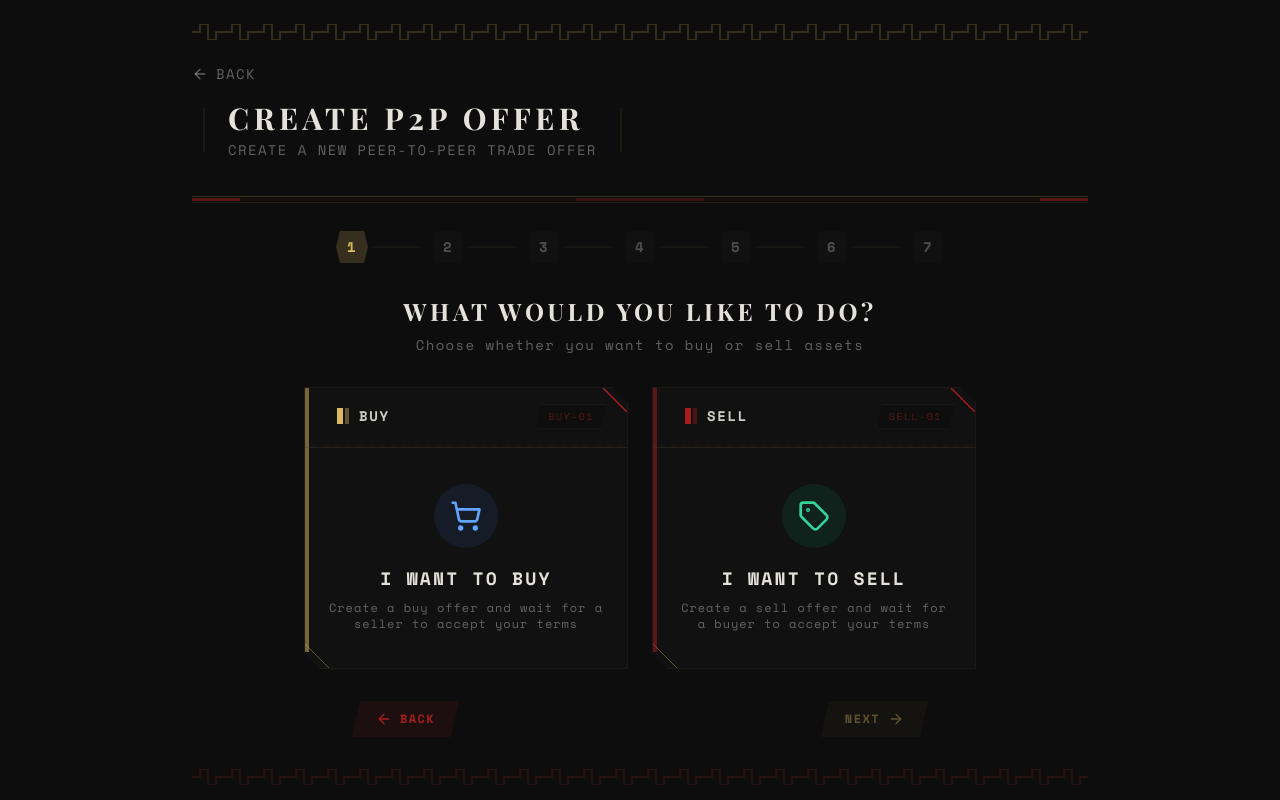
Test: Create P2P Offer Page › step 2: buy flow - asset selection with attributes › should display attribute dropdowns when asset with attributes is selected
Click the heading "I want to Buy". click: click(466, 578)
box: [380,565,552,591]
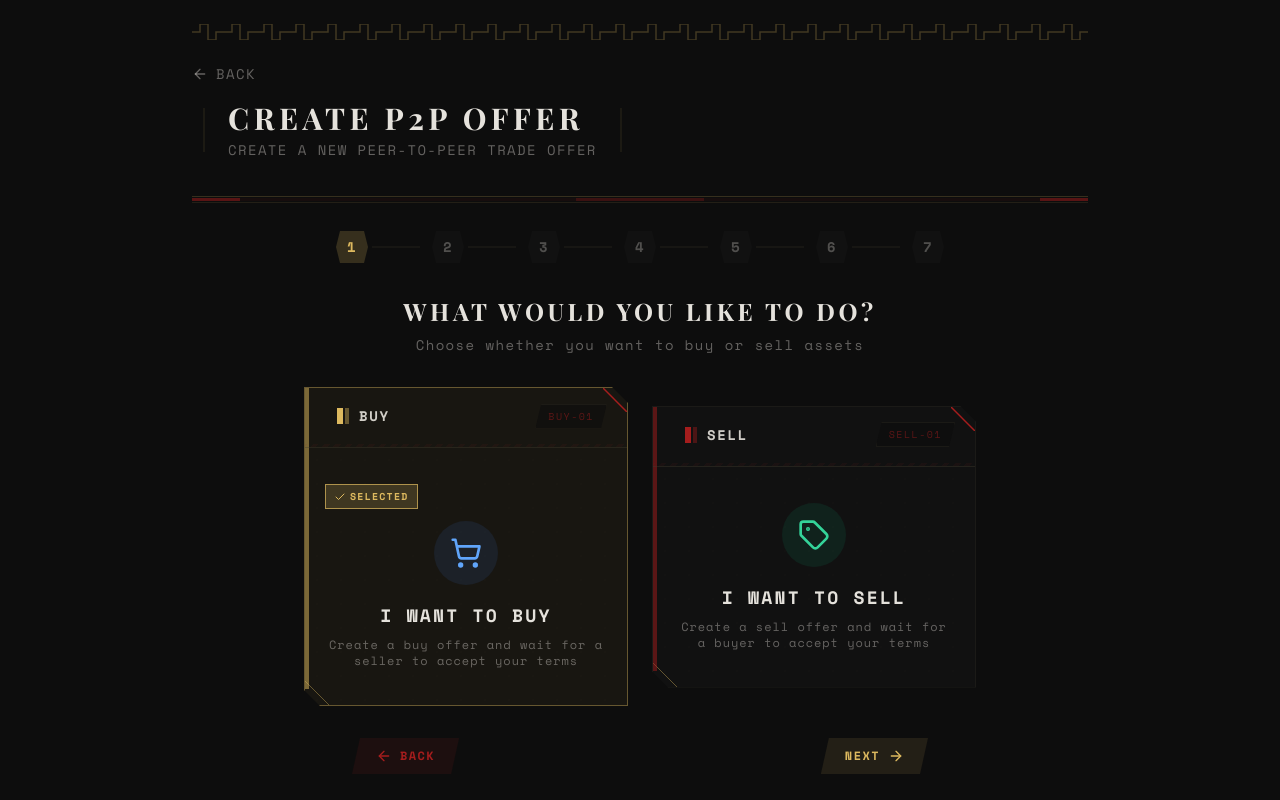
Click the button "Next". click: click(874, 756)
box: [821,738,928,774]
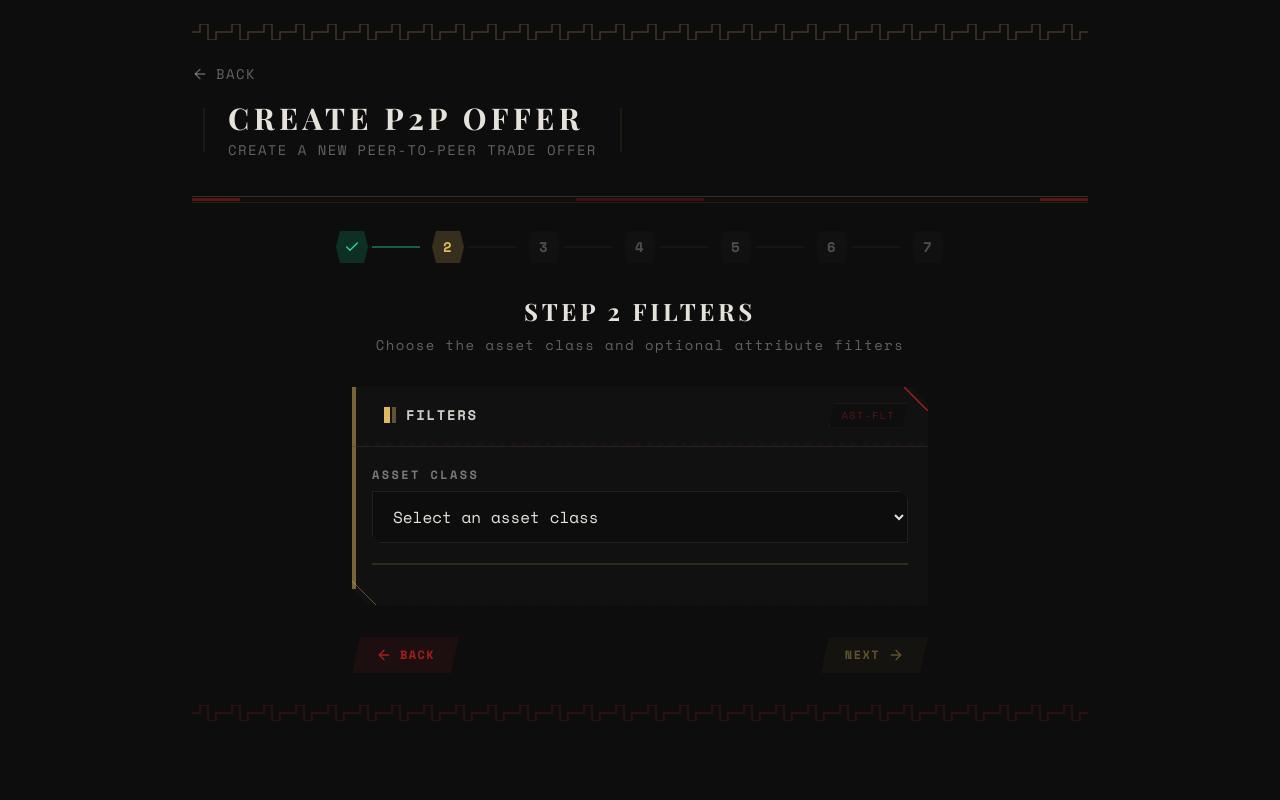
Expected: the text "Asset Class" is shown, [372,466,479,483]
Select "GOAT" in the dropdown. click: (640, 517)
box: [372,491,908,543]
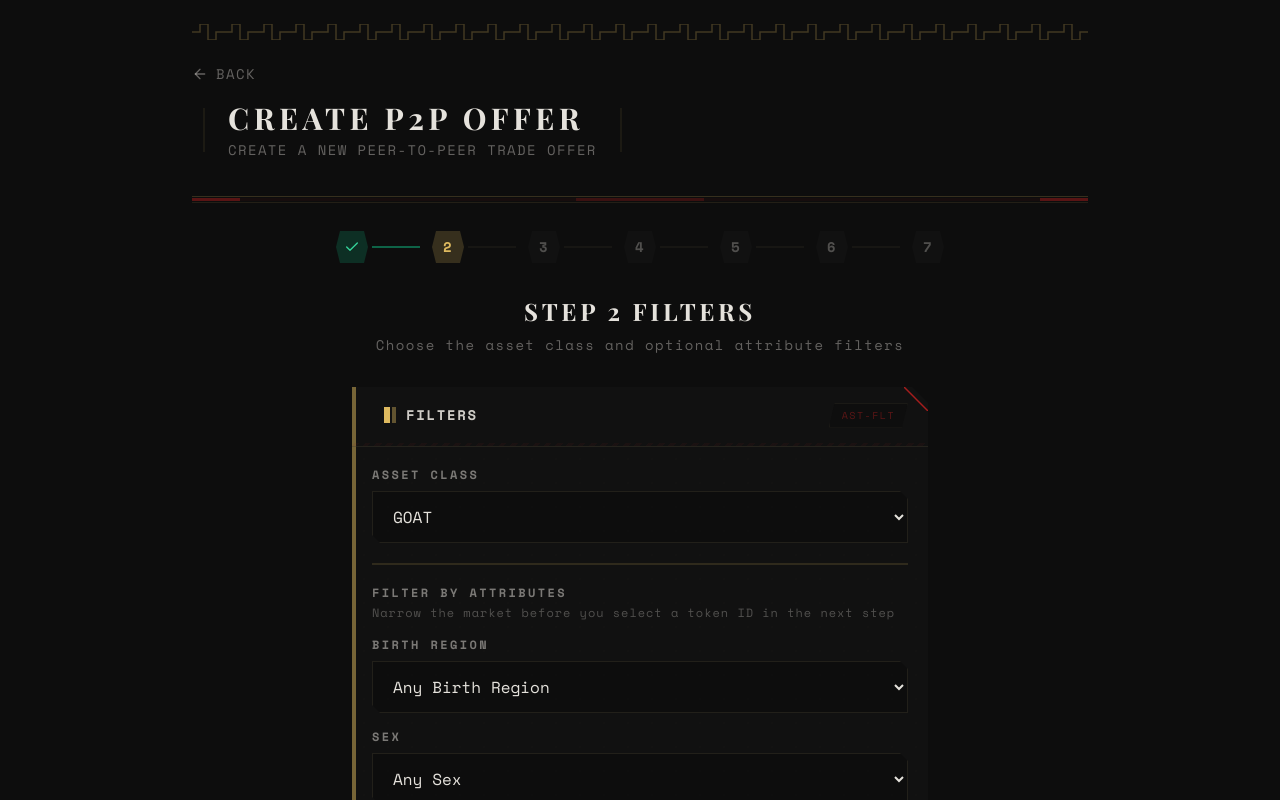
Expected: the heading "Filter by Attributes" is shown, [372,584,567,601]
Expected: the text "Sex" is shown, [372,728,401,745]
